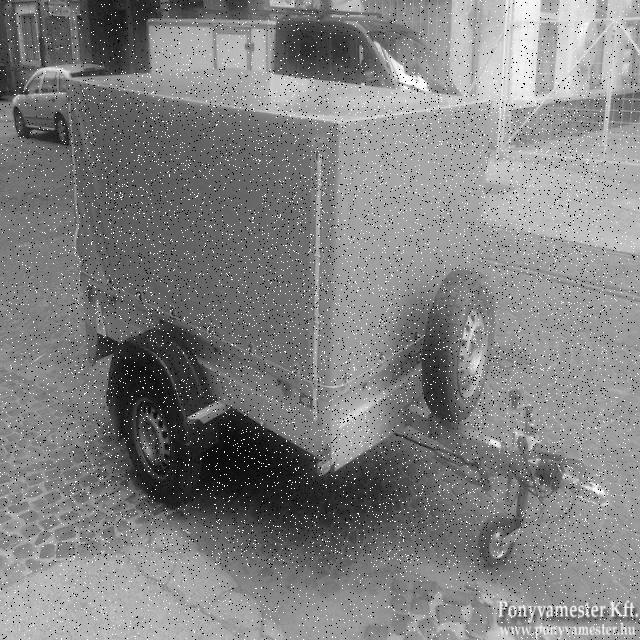Box Truck: (69, 71, 608, 567)
